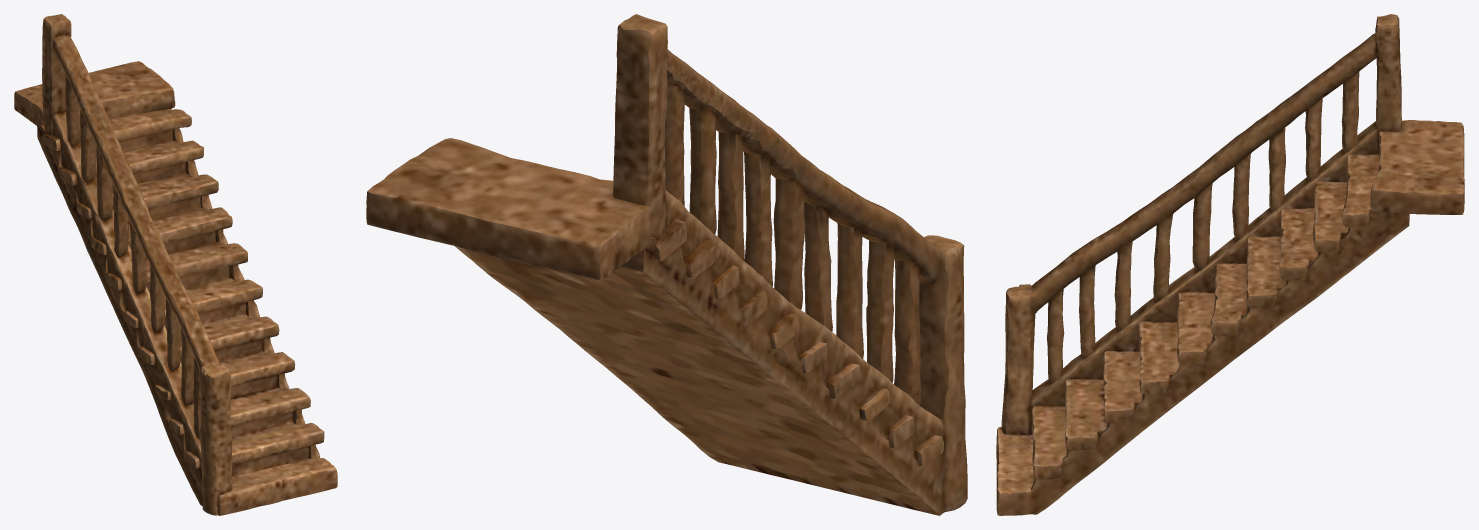
File: stairs_lite.glb
3 views of the same model, side by side, from view 1: azimuth 30°, elevation 25°; view 2: azimuth 150°, elevation 25°; view 3: azimuth 270°, elevation 25° (orthographic). The views are drawn at different scales.
Visible parts, largest first — view 1: geometry_0; view 2: geometry_0; view 3: geometry_0.
Boxes of the visible parts, x1,y1,x2,y2 form: geometry_0: [14, 14, 337, 515]; geometry_0: [366, 14, 967, 515]; geometry_0: [996, 14, 1464, 515].
Size of the model in its own units: 0.6903 by 1.9 by 1.86.
Materials: 1 (1 with a texture image).
